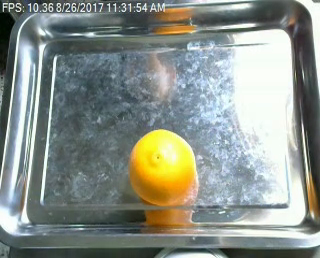Orange: (128, 127, 196, 205)
